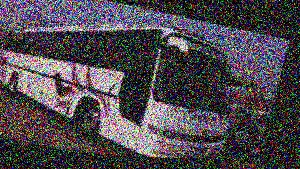bus: (0, 0, 256, 169)
